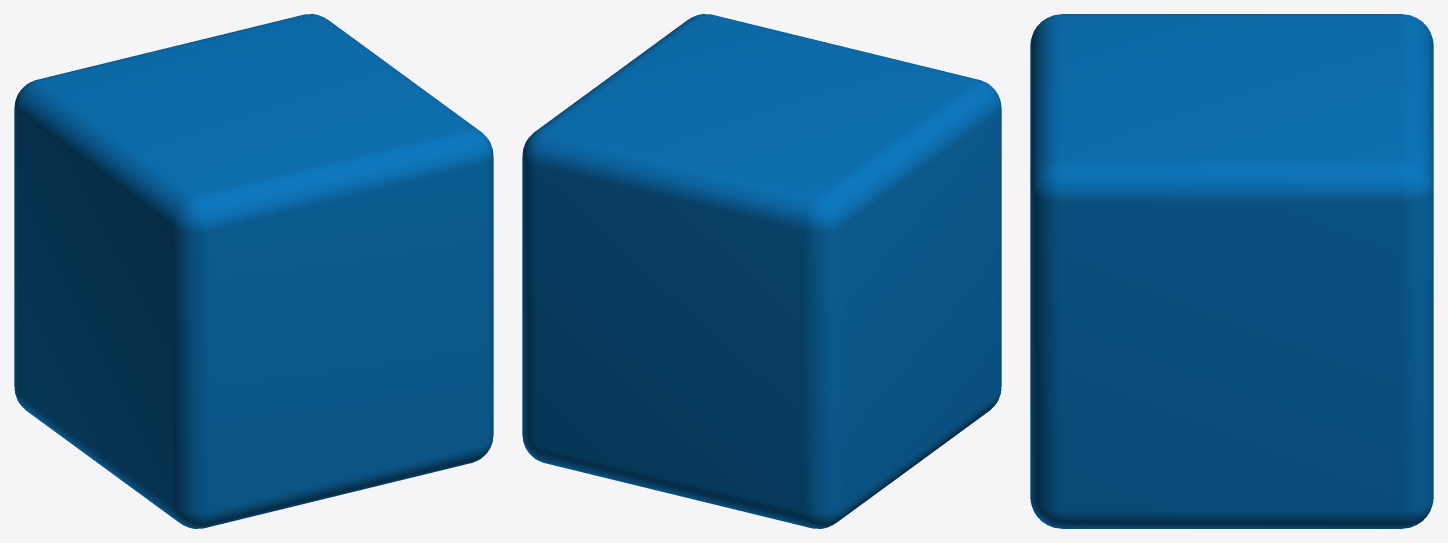
Rendered from cube_blender_2.glb.
3 renders of one model, left to right at view 1: azimuth 30°, elevation 25°; view 2: azimuth 150°, elevation 25°; view 3: azimuth 270°, elevation 25°, orthographic. The views are drawn at different scales.
Visible parts, largest first — view 1: Cube; view 2: Cube; view 3: Cube.
Part boxes in pixels (x1,y1,x2,y2): Cube: (14,14,493,528); Cube: (522,14,1001,528); Cube: (1030,14,1433,528).
Size of the model in its own units: 100 by 100 by 100.
